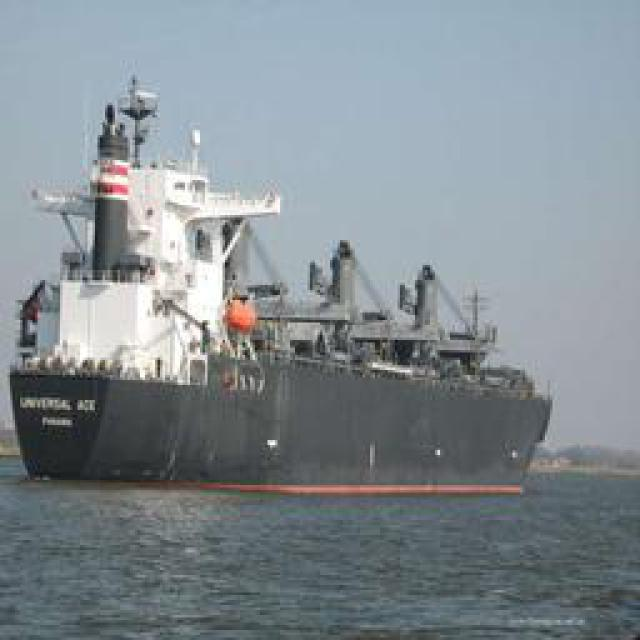Ship: (17, 51, 540, 491)
